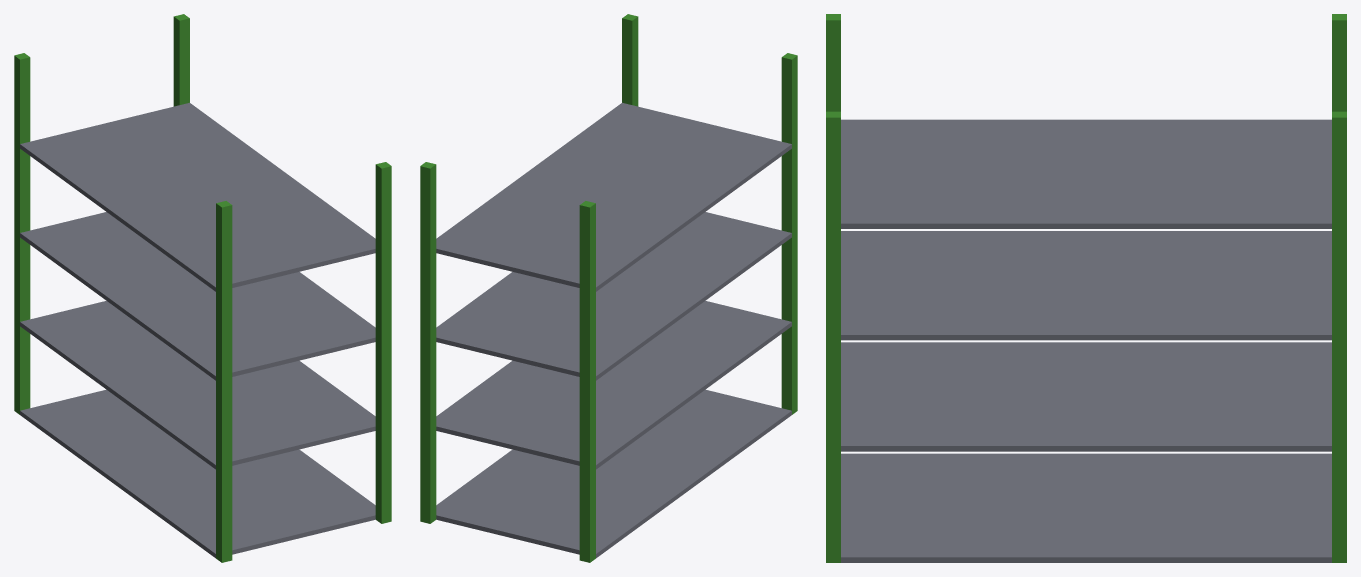
The model's file is reol 1.fbx.
3 views of the same model, side by side, from view 1: azimuth 30°, elevation 25°; view 2: azimuth 150°, elevation 25°; view 3: azimuth 270°, elevation 25° (orthographic). The views are drawn at different scales.
Visible parts, largest first — view 1: roof_flatCenter (×4), columns_small (×2); view 2: roof_flatCenter (×4), columns_small (×2); view 3: roof_flatCenter (×4), columns_small (×2).
Part boxes in pixels (x1,y1,x2,y2): roof_flatCenter (×4): [20, 102, 375, 558]; columns_small (×2): [14, 14, 391, 562]; roof_flatCenter (×4): [436, 102, 791, 558]; columns_small (×2): [420, 14, 797, 562]; roof_flatCenter (×4): [841, 119, 1331, 562]; columns_small (×2): [826, 14, 1346, 562].
Size of the model in its own units: 10 by 20 by 21.2.
